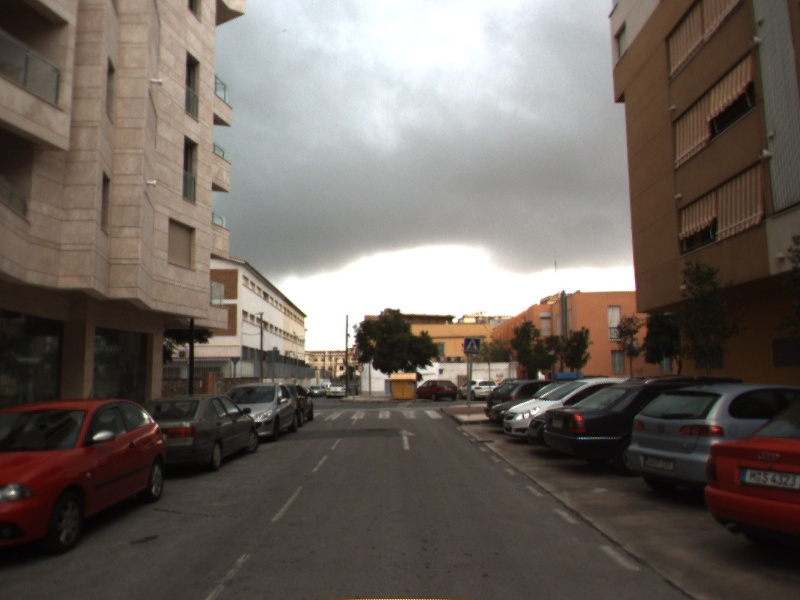STRAIGHT: (396, 427, 419, 451)
